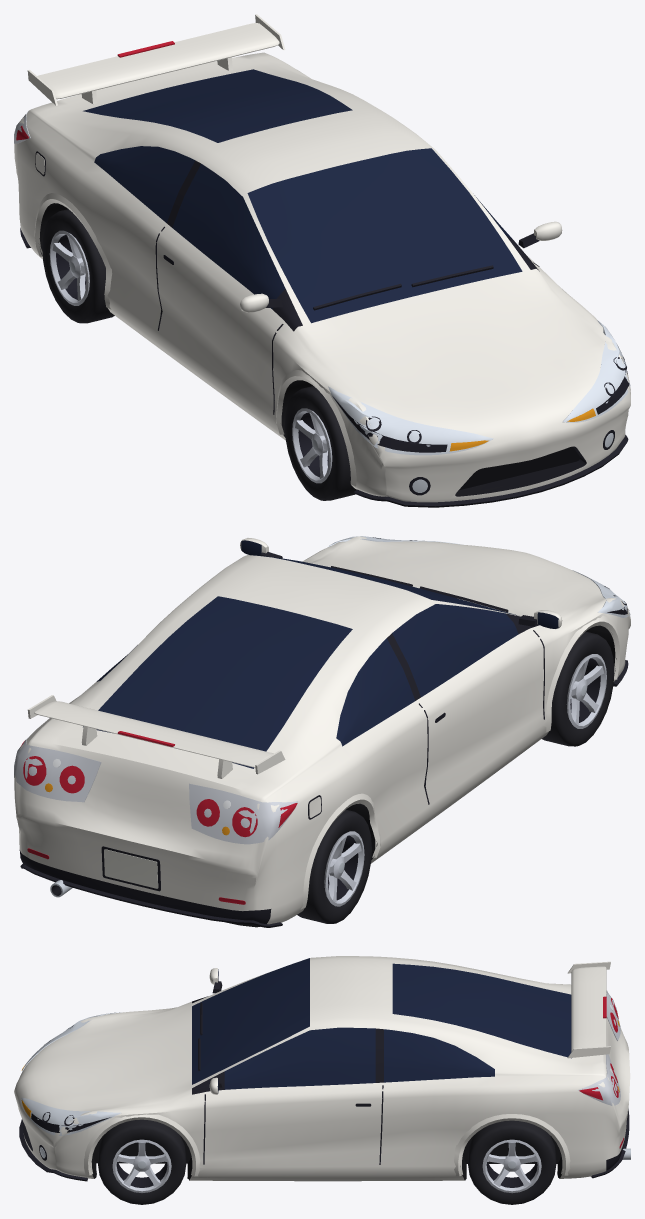
File: hero.glb
The picture shows the model from 3 angles, top to bottom: view 1: azimuth 30°, elevation 25°; view 2: azimuth 150°, elevation 25°; view 3: azimuth 270°, elevation 25°; orthographic projection. The views are drawn at different scales.
Visible parts, largest first — view 1: body, wheel_FR, wheel_RR; view 2: body, wheel_RR, wheel_FR; view 3: body, wheel_FL, wheel_RL.
Part boxes in pixels (x1,y1,x2,y2): body: [14, 14, 630, 507]; wheel_FR: [284, 386, 356, 500]; wheel_RR: [42, 209, 114, 323]; body: [14, 536, 630, 927]; wheel_RR: [297, 809, 371, 923]; wheel_FR: [542, 631, 614, 746]; body: [14, 956, 630, 1181]; wheel_FL: [98, 1119, 186, 1204]; wheel_RL: [468, 1120, 556, 1204].
Bounding box in the file's own units: 1.98 × 1.31 × 4.34.
